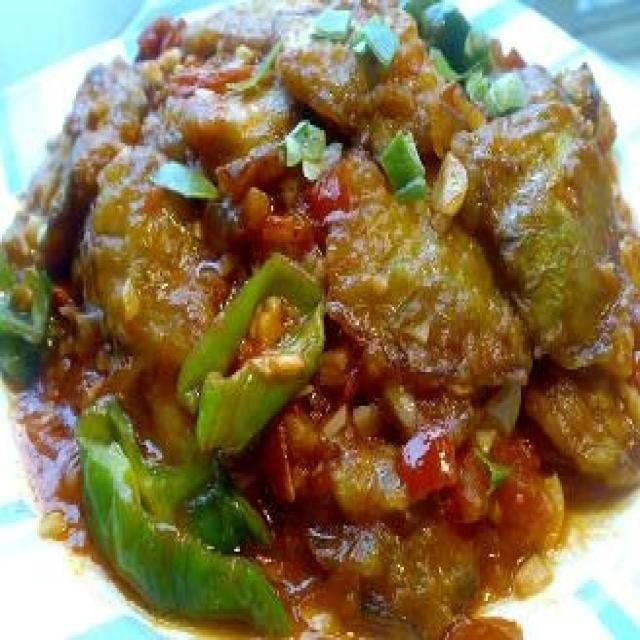鸡蛋料理: (19, 21, 620, 604)
